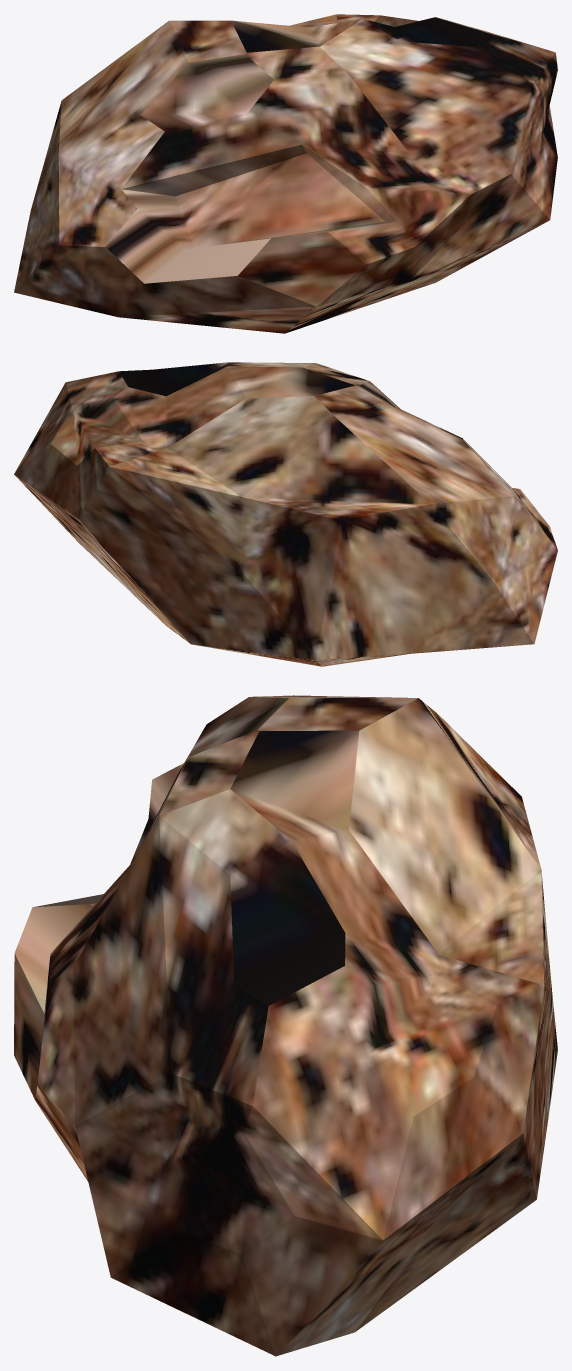
Rendered from met4.glb.
The picture shows the model from 3 angles, top to bottom: view 1: azimuth 30°, elevation 25°; view 2: azimuth 150°, elevation 25°; view 3: azimuth 270°, elevation 25°; orthographic projection. The views are drawn at different scales.
Visible parts, largest first — view 1: Icosphere; view 2: Icosphere; view 3: Icosphere.
Boxes of the visible parts, x1=… form: Icosphere: x1=14, y1=14, x2=557, y2=333; Icosphere: x1=14, y1=362, x2=557, y2=666; Icosphere: x1=14, y1=695, x2=557, y2=1356.
Size of the model in its own units: 3.76 by 1.95 by 1.97.
1 material, 1 textured.
